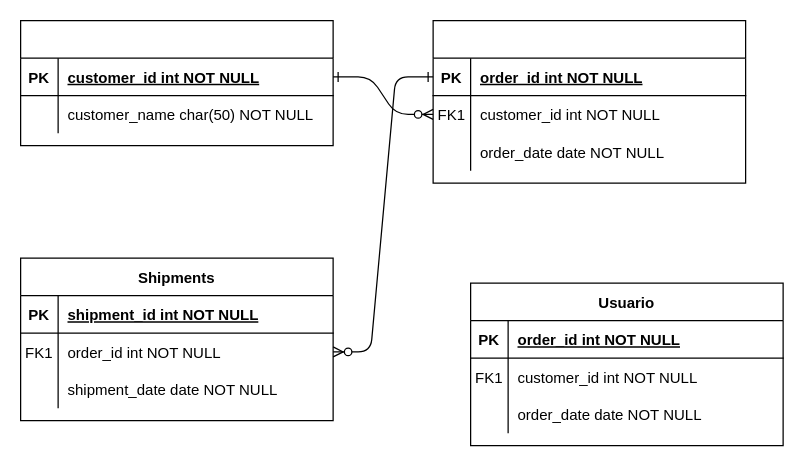
The diagram is 804 pixels wide and 466 high, and some of its shapes have lost their labels. The shapes that lost their labels are listed below. From the top down, each one's box as (x1, y1, x2, y2) in pixels, then its label:
(19, 19, 333, 146): Semas
(432, 19, 746, 183): Banco
